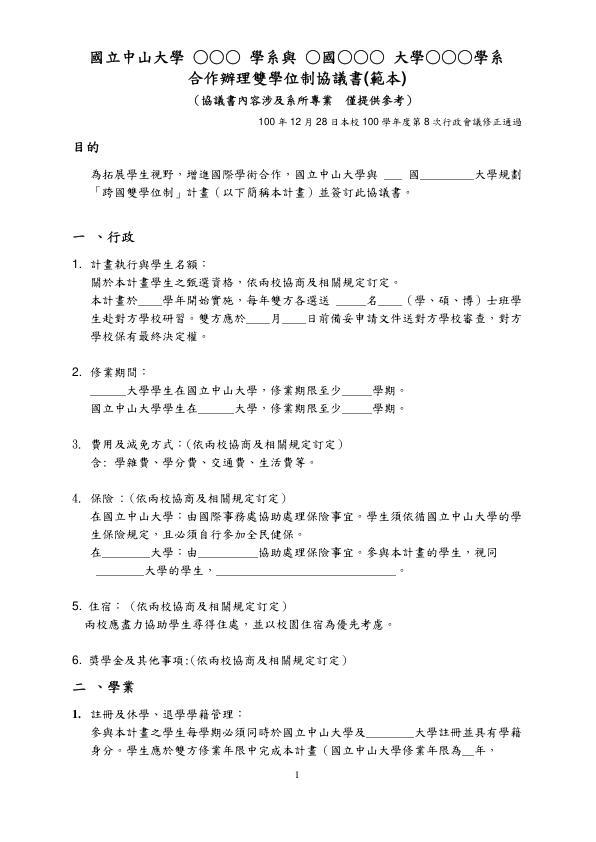input: (217, 562, 397, 579), (420, 165, 471, 184), (200, 543, 255, 560), (365, 722, 414, 741), (101, 544, 149, 560), (94, 564, 145, 578), (88, 381, 125, 398), (199, 400, 234, 417), (342, 378, 370, 398), (279, 307, 305, 326), (342, 399, 370, 416), (138, 290, 162, 309), (335, 293, 366, 307), (379, 292, 402, 308), (381, 167, 405, 181), (246, 310, 268, 325), (461, 740, 474, 760)
text: (88, 509, 528, 542), (64, 597, 395, 633), (68, 433, 347, 471), (182, 67, 416, 109), (83, 46, 508, 67), (88, 182, 414, 204), (88, 272, 400, 291), (87, 742, 460, 757), (84, 163, 376, 182), (88, 721, 364, 741), (255, 112, 524, 132), (69, 653, 351, 670), (259, 543, 499, 561), (307, 309, 523, 327), (127, 380, 340, 398), (68, 492, 287, 506), (67, 705, 247, 721), (66, 254, 211, 272), (161, 291, 330, 306), (405, 290, 526, 309), (88, 312, 245, 325), (87, 398, 196, 416), (87, 327, 207, 343), (235, 398, 340, 416), (415, 725, 525, 739), (68, 677, 143, 697), (64, 363, 147, 379), (67, 227, 139, 245), (144, 561, 213, 577), (473, 163, 526, 182), (149, 542, 198, 561), (87, 292, 140, 307), (66, 135, 103, 155), (371, 398, 407, 416), (371, 382, 408, 397), (406, 163, 419, 182), (475, 744, 496, 755), (269, 309, 281, 325), (366, 293, 378, 307), (88, 546, 99, 557)
